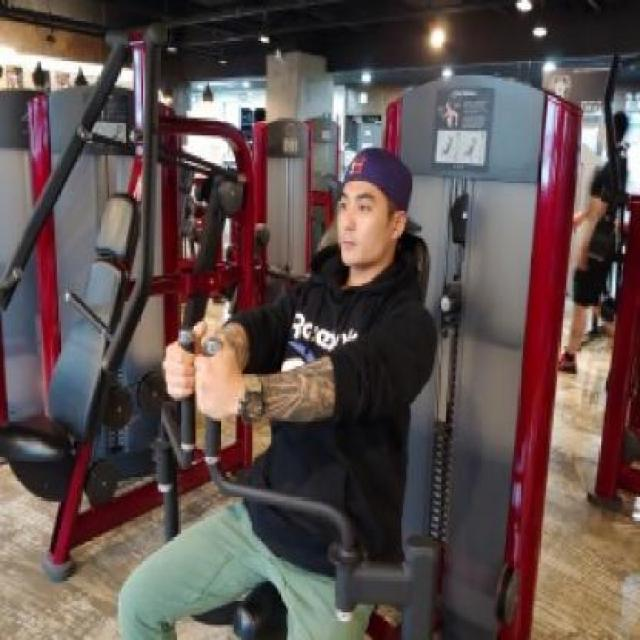chest fly machine: (107, 9, 640, 640)
